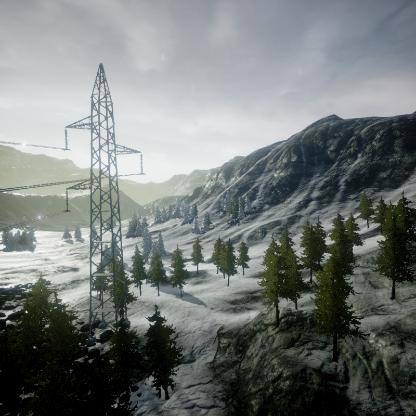tower: (63, 62, 147, 334)
